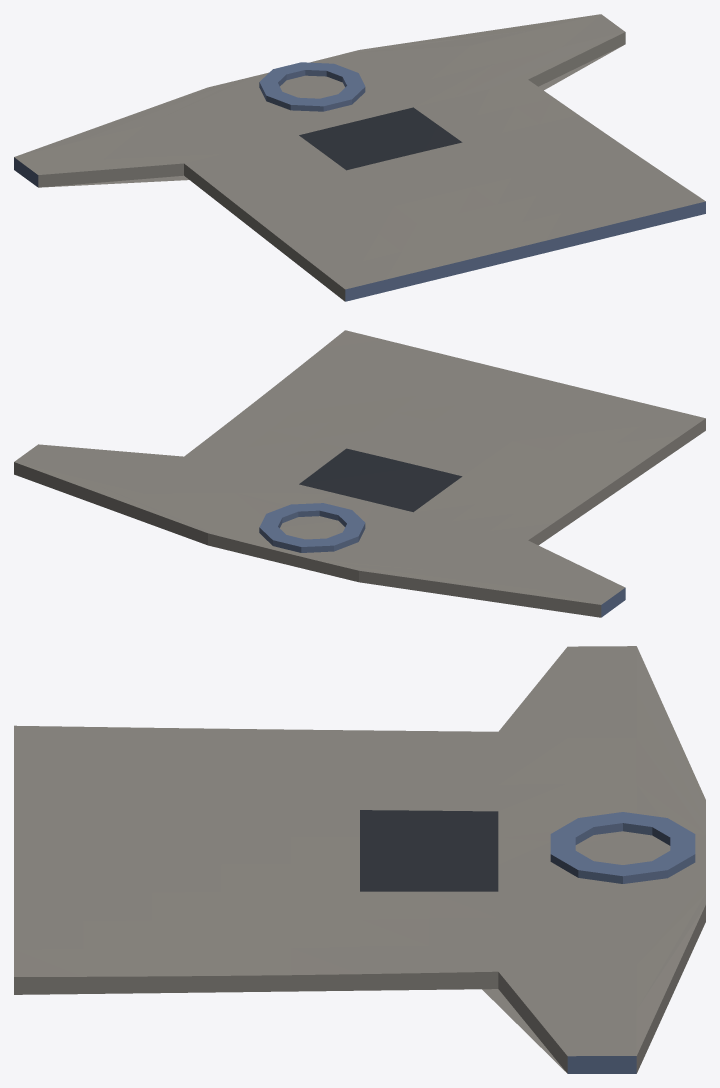
File: t_shirt.glb
3 views of the same model, one above another, from view 1: azimuth 30°, elevation 25°; view 2: azimuth 150°, elevation 25°; view 3: azimuth 270°, elevation 25° (orthographic). The views are drawn at different scales.
Visible parts, largest first — view 1: t_shirt; view 2: t_shirt; view 3: t_shirt.
Boxes of the visible parts, <box> form: t_shirt: <box>14,14,705,301</box>; t_shirt: <box>14,330,705,617</box>; t_shirt: <box>14,646,705,1073</box>.
Bounding box in the file's own units: 0.7 × 0.02 × 0.5.
